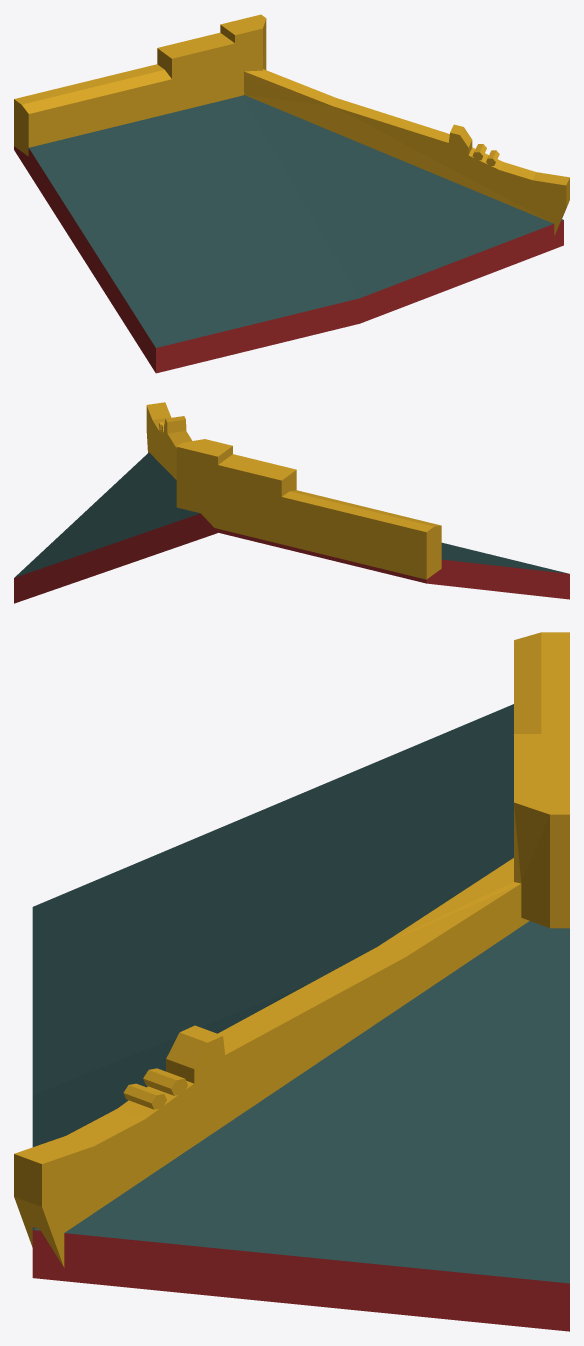
File: Asian_Prop_Building_Modular_Roof_Long_Corner_Simple_01.FBX
The picture shows the model from 3 angles, top to bottom: view 1: azimuth 30°, elevation 25°; view 2: azimuth 150°, elevation 25°; view 3: azimuth 270°, elevation 25°; orthographic projection. The views are drawn at different scales.
Visible parts, largest first — view 1: Asian_Prop_Building_Modular_Roof_Long_Corner_Simple_01; view 2: Asian_Prop_Building_Modular_Roof_Long_Corner_Simple_01; view 3: Asian_Prop_Building_Modular_Roof_Long_Corner_Simple_01.
Boxes of the visible parts, box(x1,y1,x2,y2) form: Asian_Prop_Building_Modular_Roof_Long_Corner_Simple_01: box(14, 14, 569, 373); Asian_Prop_Building_Modular_Roof_Long_Corner_Simple_01: box(14, 402, 569, 603); Asian_Prop_Building_Modular_Roof_Long_Corner_Simple_01: box(14, 632, 569, 1331).
Bounding box in the file's own units: 6638 × 2967 × 4054.
